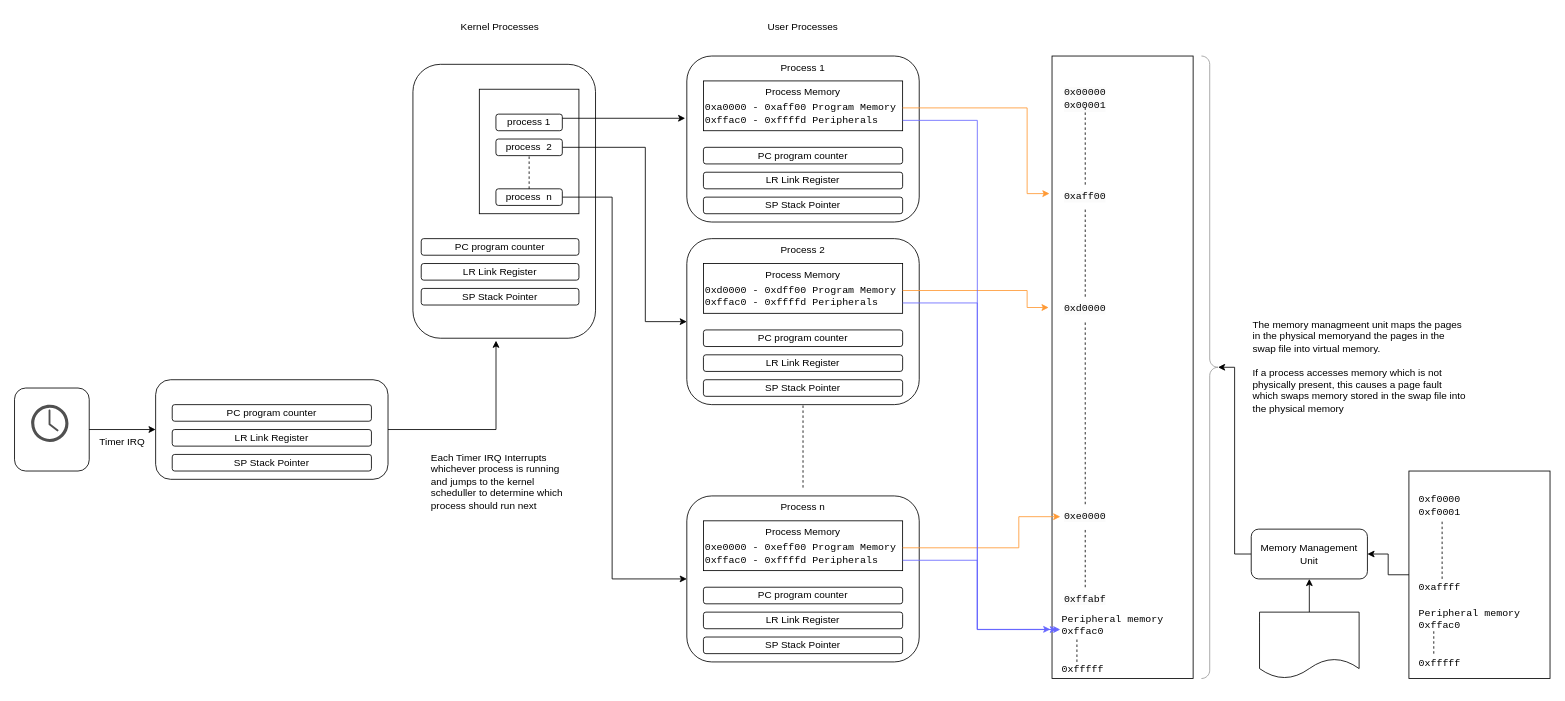
Image size: 1565x701. Some labels were removed from this diagram. Each missing label, with the box of its shape:
CPU: (155, 379, 388, 479)
kernel scheduler process: (412, 63, 596, 338)
Physical Memory: (1408, 470, 1550, 679)
process list: (478, 88, 579, 214)
swap file (memory pages): (1259, 611, 1359, 679)
system clock: (31, 404, 68, 442)
Virtual Memory: (1051, 55, 1193, 679)
